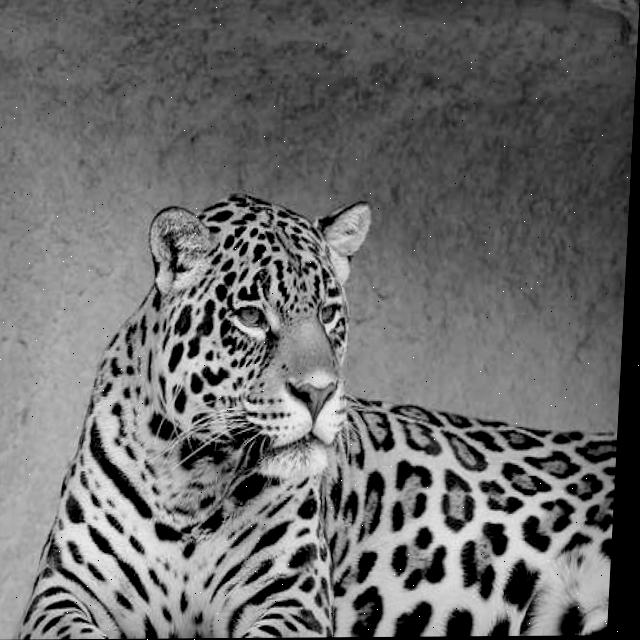Leopard: (33, 124, 368, 559)
